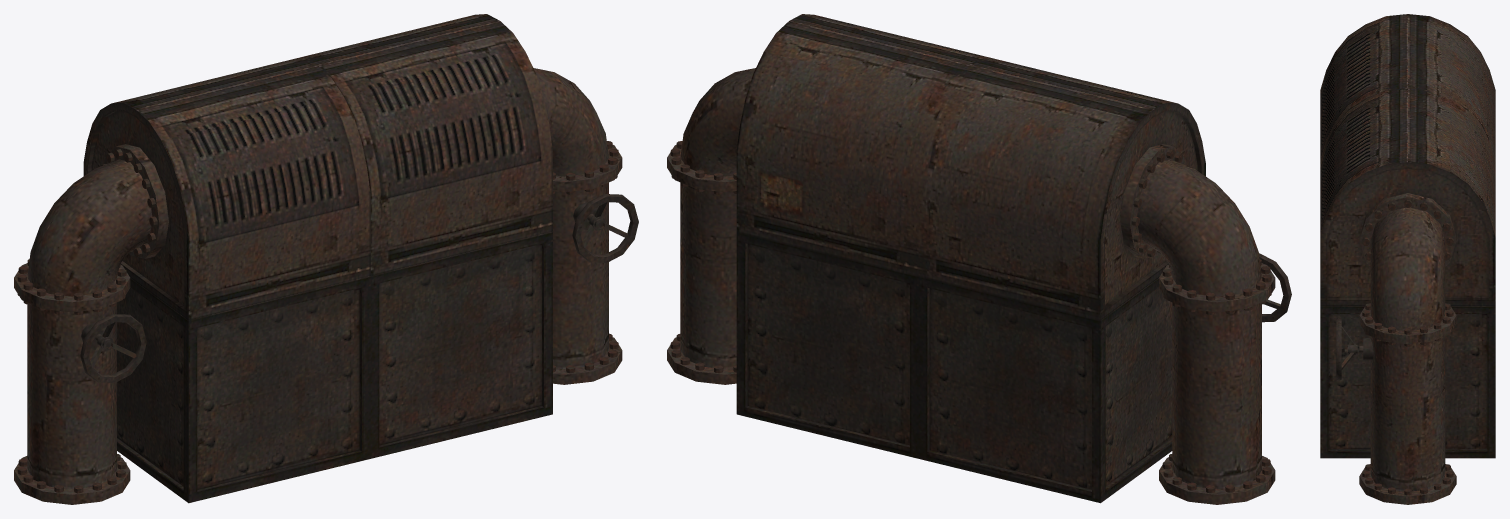
File: machinery_mx_1.obj
The picture shows the model from 3 angles, left to right: view 1: azimuth 30°, elevation 25°; view 2: azimuth 150°, elevation 25°; view 3: azimuth 270°, elevation 25°; orthographic projection. The views are drawn at different scales.
Visible parts, largest first — view 1: machinery_mx_1; view 2: machinery_mx_1; view 3: machinery_mx_1.
Boxes of the visible parts, box(x1,y1,x2,y2) form: machinery_mx_1: box(14, 14, 638, 504); machinery_mx_1: box(667, 14, 1291, 504); machinery_mx_1: box(1320, 14, 1495, 504).
Size of the model in its own units: 3.06 by 1.75 by 0.94.
